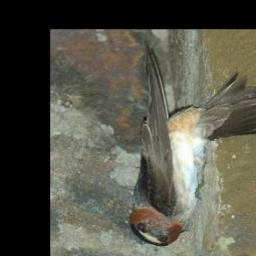Swallow: (127, 43, 256, 248)
